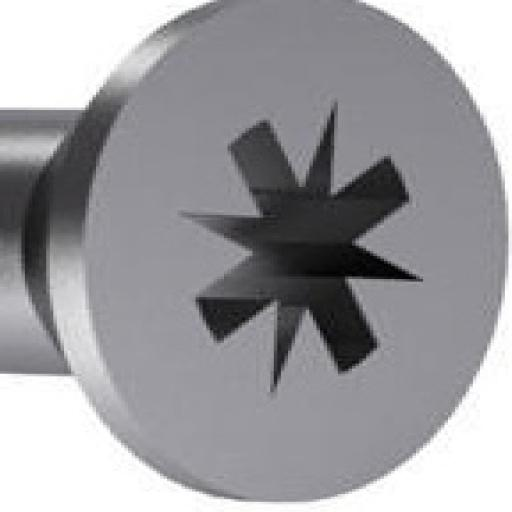Pozidriv: (0, 0, 505, 502)
